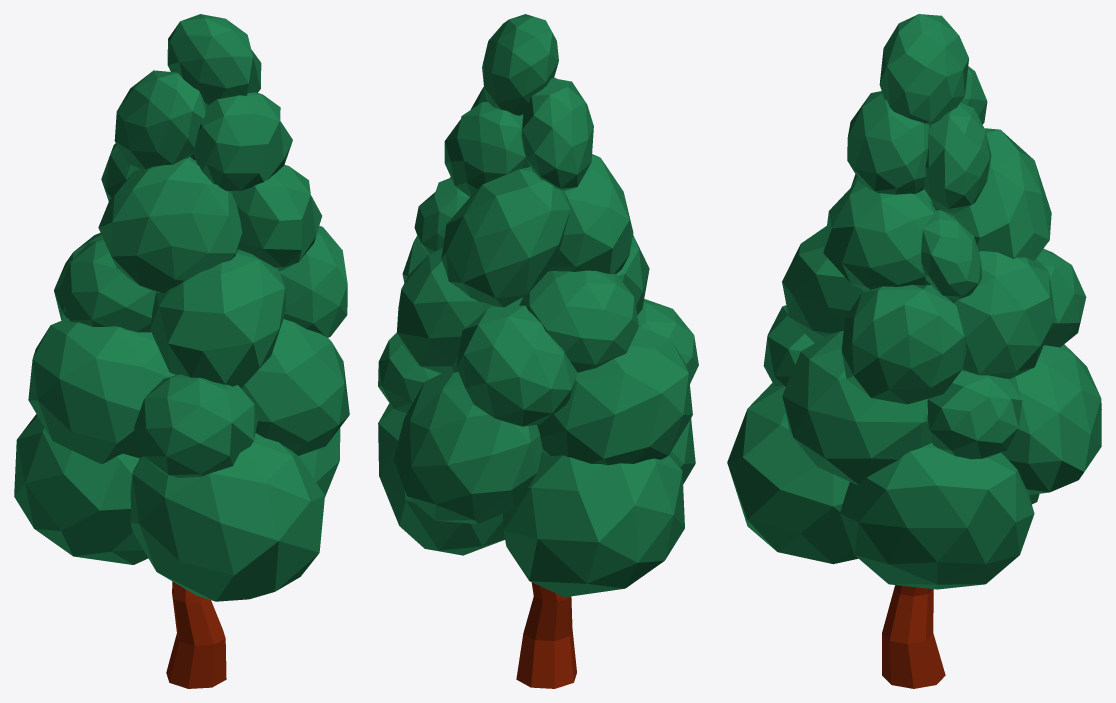
The model's file is Poplar_Folhas_Verde_Escuro.fbx.
3 views of the same model, side by side, from view 1: azimuth 30°, elevation 25°; view 2: azimuth 150°, elevation 25°; view 3: azimuth 270°, elevation 25° (orthographic). The views are drawn at different scales.
Parts seen in each view (by area): view 1: Poplar_Folhas_Verde_Escuro; view 2: Poplar_Folhas_Verde_Escuro; view 3: Poplar_Folhas_Verde_Escuro.
Boxes of the visible parts, box(x1,y1,x2,y2) form: Poplar_Folhas_Verde_Escuro: box(14, 14, 349, 688); Poplar_Folhas_Verde_Escuro: box(378, 14, 698, 688); Poplar_Folhas_Verde_Escuro: box(727, 14, 1101, 688).
Size of the model in its own units: 269 by 582 by 296.
